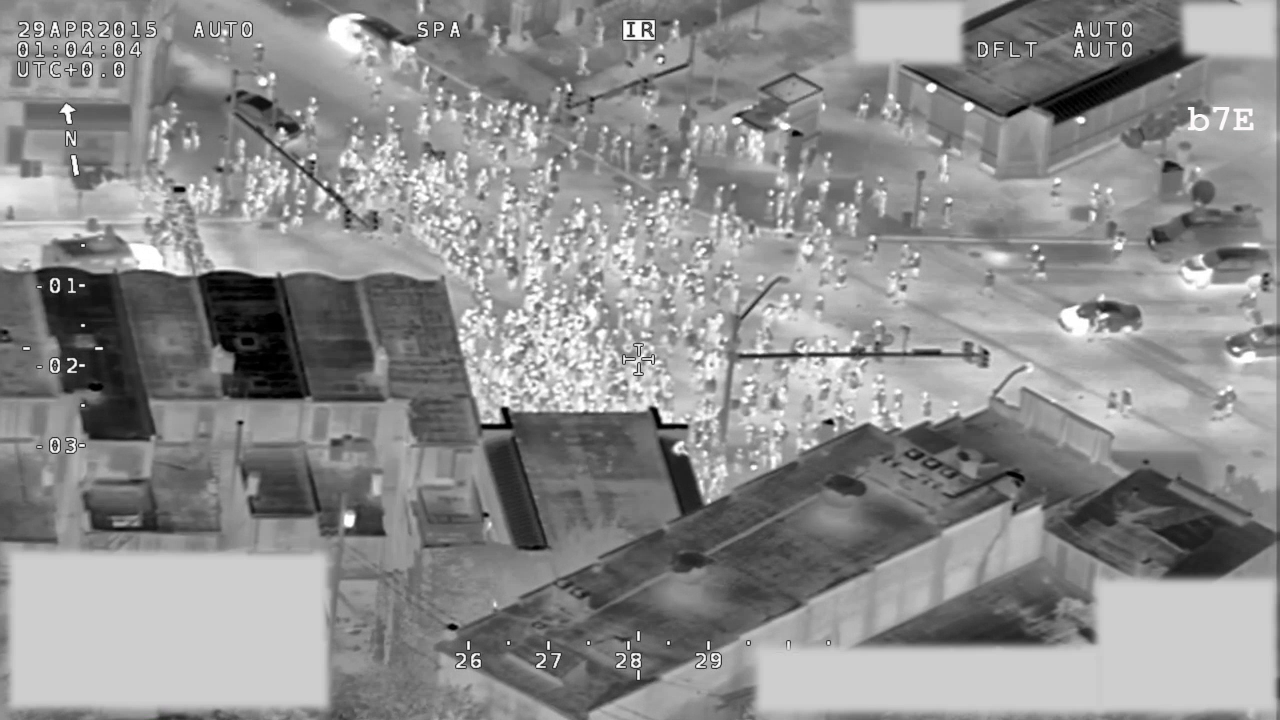vehicle: (1143, 178, 1273, 268), (323, 8, 426, 75), (219, 85, 308, 148), (1174, 243, 1280, 291), (1054, 289, 1145, 342)
